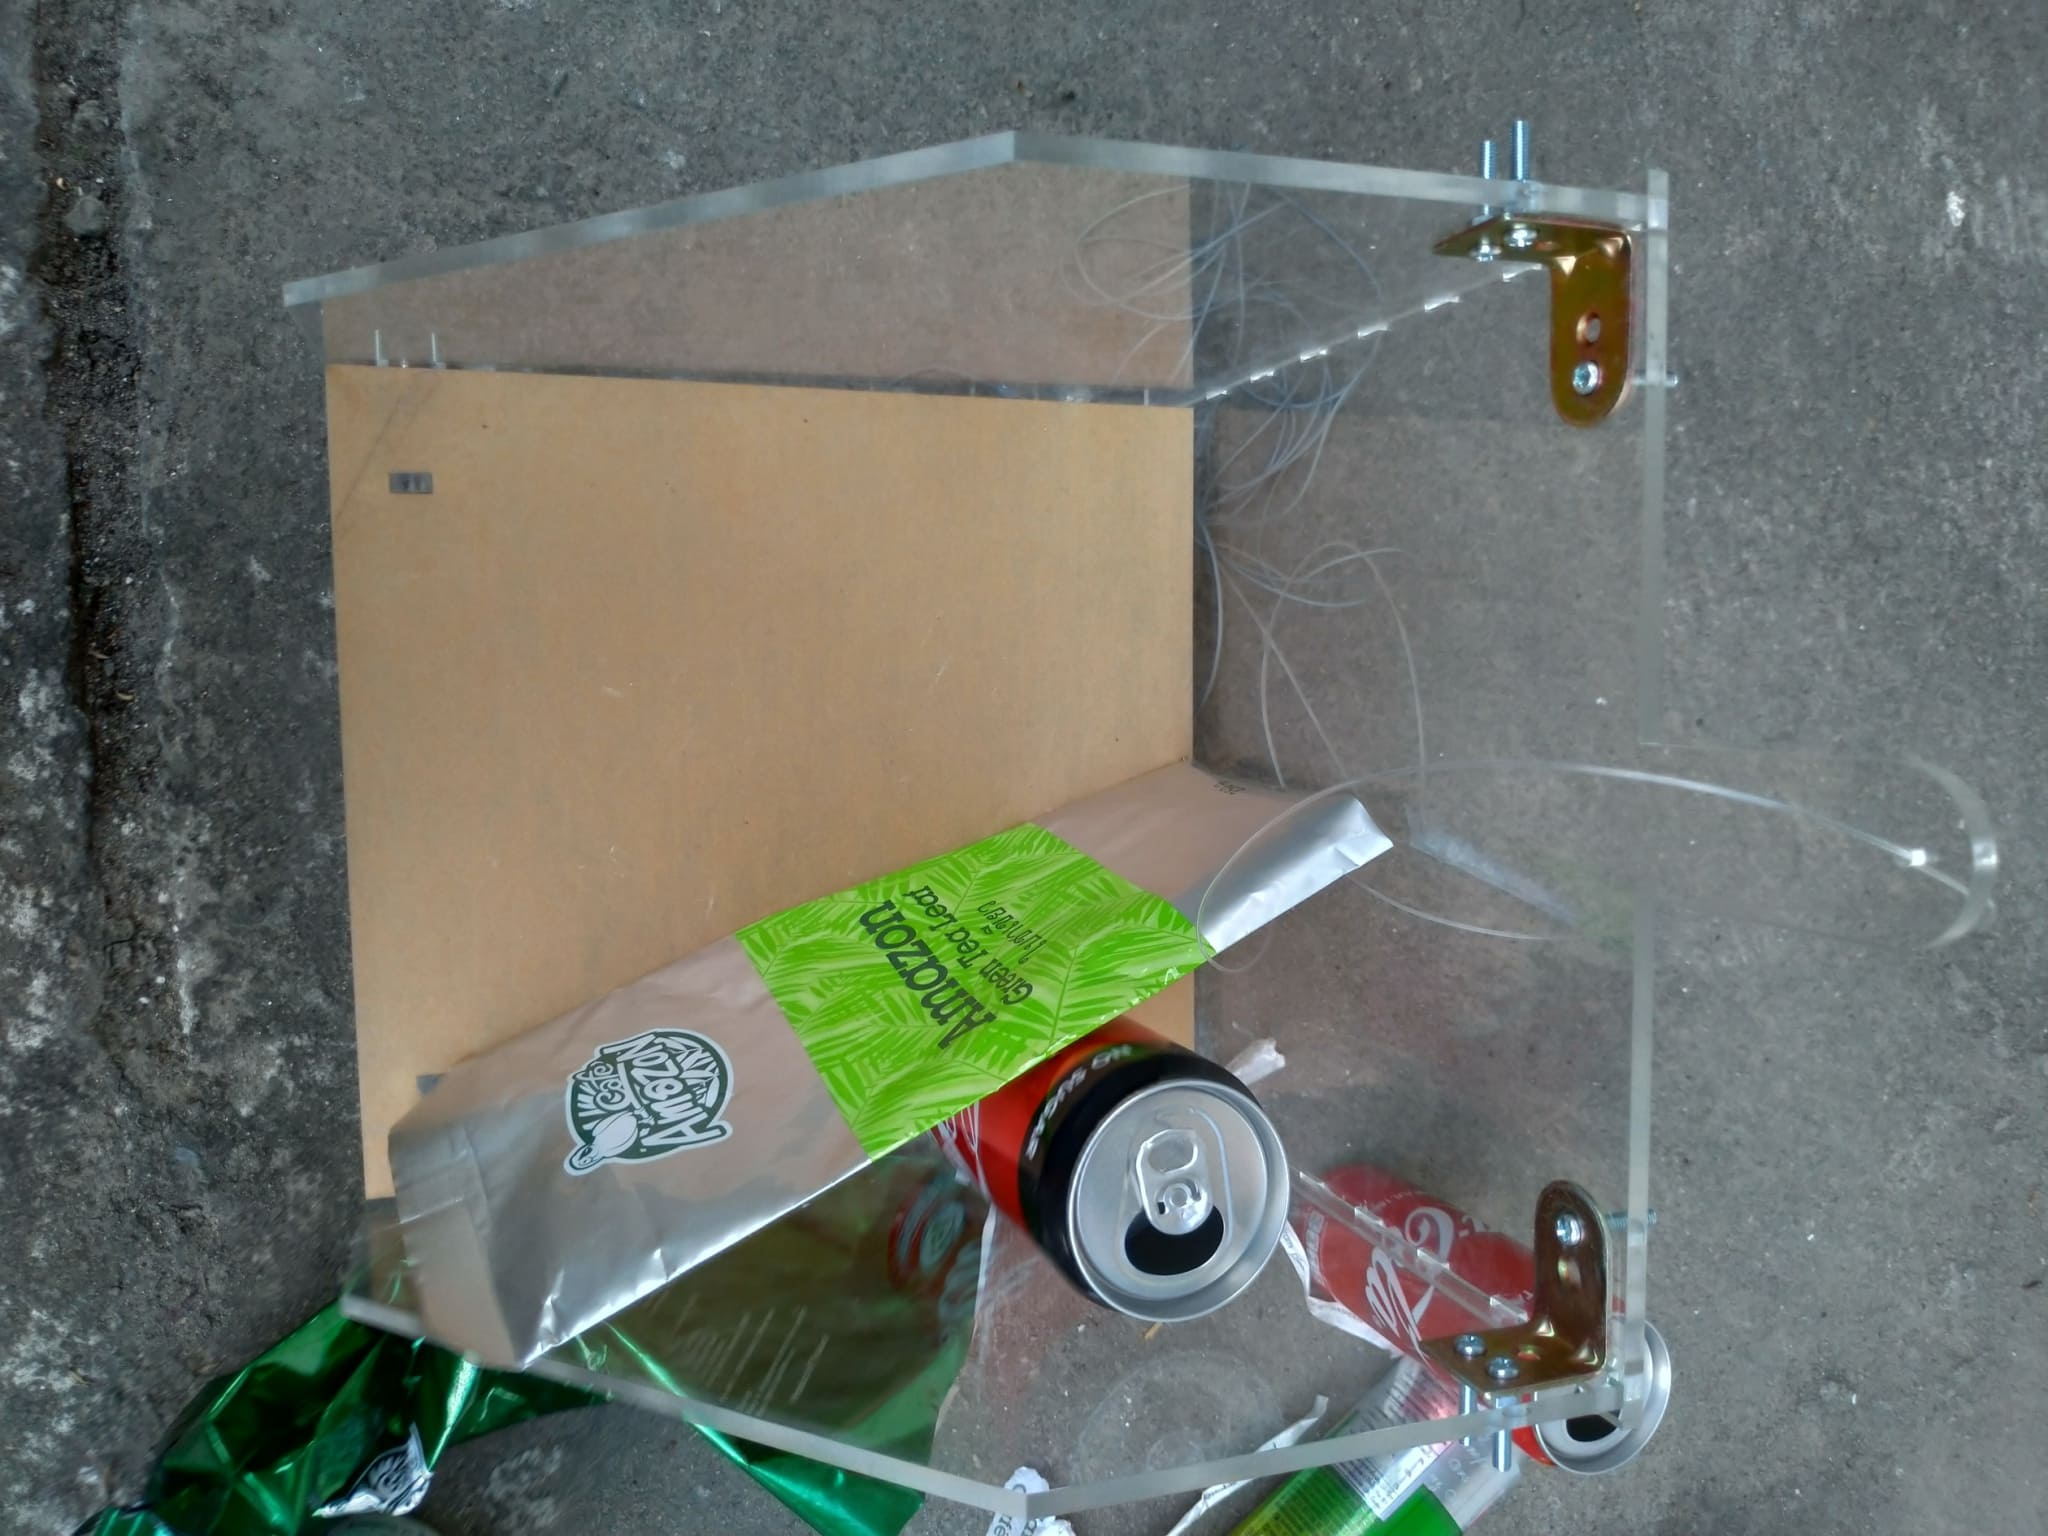AlCan: (1313, 1149, 1659, 1468), (974, 1028, 1297, 1325), (1211, 1371, 1529, 1536)
Others: (384, 733, 1374, 1367), (123, 1183, 989, 1536)
